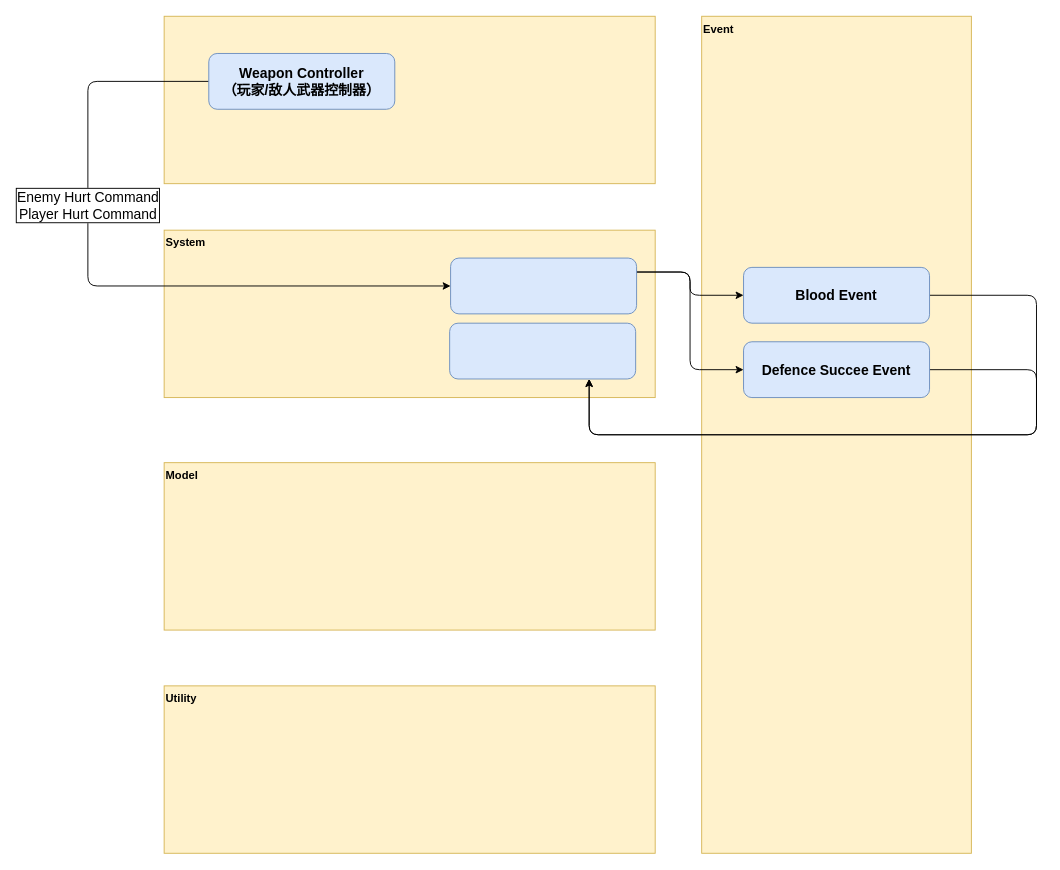
This 1060x870 diagram has some shape labels left out. Each missing label, with the box of its shape:
Battle System （战斗系统）: (450, 257, 637, 314)
Particle System （粒子系统）: (449, 322, 636, 379)
View Controller: (163, 15, 655, 184)
